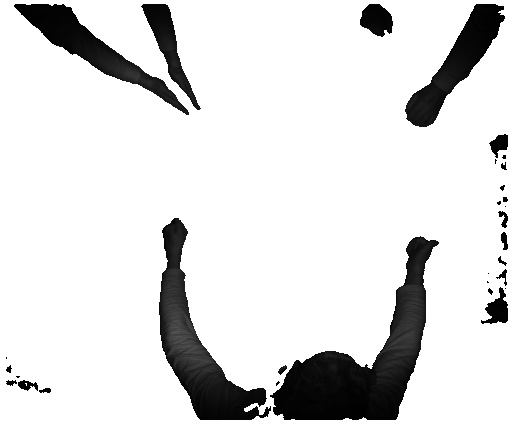fist: (400, 88, 444, 127), (400, 232, 439, 269), (160, 216, 191, 258), (360, 7, 399, 39)
spine: (142, 76, 192, 119), (168, 60, 207, 114)
